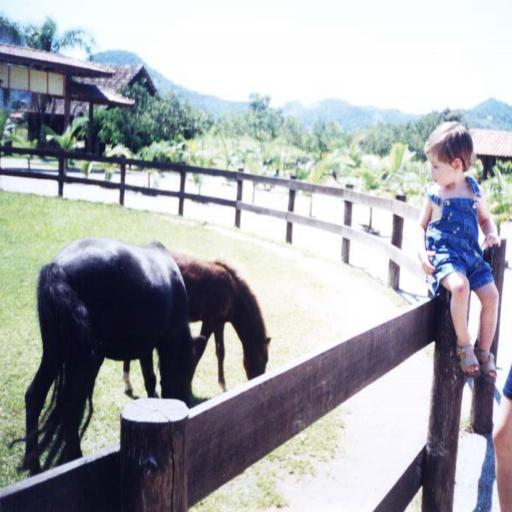horse: (4, 234, 207, 478), (120, 250, 270, 398)
